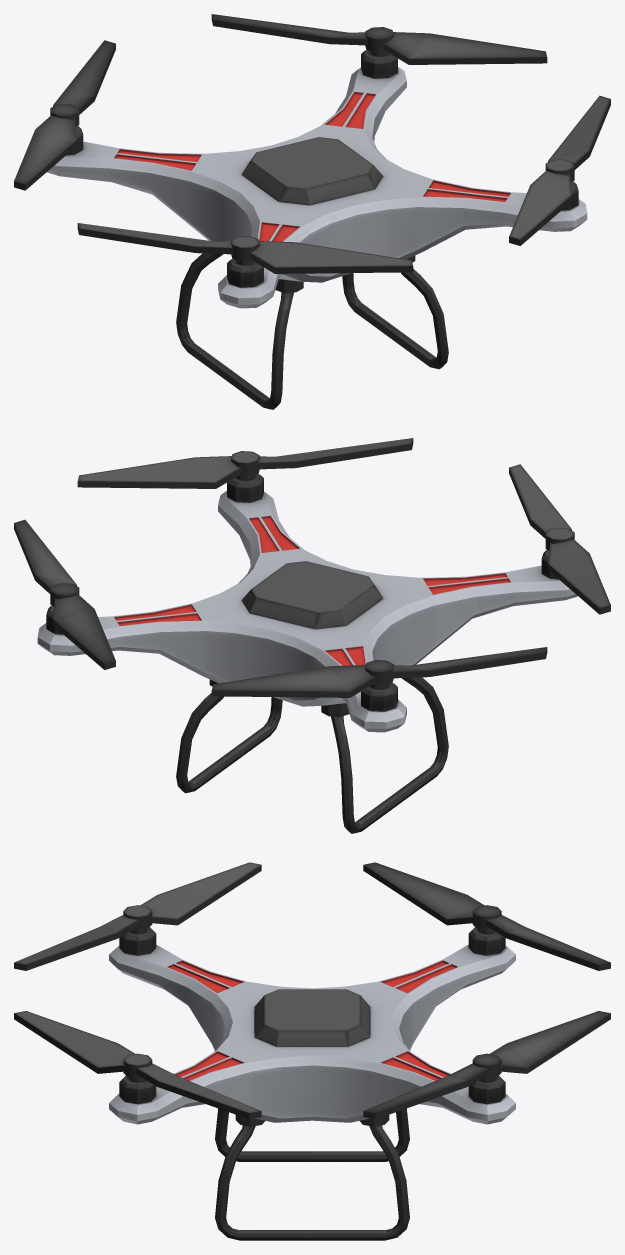
Rendered from drone_low_poly.obj.
The picture shows the model from 3 angles, top to bottom: view 1: azimuth 30°, elevation 25°; view 2: azimuth 150°, elevation 25°; view 3: azimuth 270°, elevation 25°; orthographic projection. The views are drawn at different scales.
Parts seen in each view (by area): view 1: MainBody_LowPolyDrone_0, Wing1_LowPolyDrone_0, Wing3_LowPolyDrone_0, Wing2_LowPolyDrone_0, Wing4_LowPolyDrone_0; view 2: MainBody_LowPolyDrone_0, Wing4_LowPolyDrone_0, Wing2_LowPolyDrone_0, Wing3_LowPolyDrone_0, Wing1_LowPolyDrone_0; view 3: MainBody_LowPolyDrone_0, Wing2_LowPolyDrone_0, Wing3_LowPolyDrone_0, Wing1_LowPolyDrone_0, Wing4_LowPolyDrone_0.
Part boxes in pixels (x1=…): MainBody_LowPolyDrone_0: x1=47, y1=50, x2=587, y2=409; Wing1_LowPolyDrone_0: x1=211, y1=14, x2=547, y2=64; Wing3_LowPolyDrone_0: x1=77, y1=223, x2=413, y2=273; Wing2_LowPolyDrone_0: x1=14, y1=40, x2=115, y2=190; Wing4_LowPolyDrone_0: x1=509, y1=95, x2=610, y2=245; MainBody_LowPolyDrone_0: x1=37, y1=474, x2=577, y2=833; Wing4_LowPolyDrone_0: x1=77, y1=438, x2=413, y2=488; Wing2_LowPolyDrone_0: x1=211, y1=647, x2=547, y2=697; Wing3_LowPolyDrone_0: x1=509, y1=464, x2=610, y2=614; Wing1_LowPolyDrone_0: x1=14, y1=519, x2=115, y2=669; MainBody_LowPolyDrone_0: x1=109, y1=927, x2=515, y2=1240; Wing2_LowPolyDrone_0: x1=363, y1=862, x2=610, y2=970; Wing3_LowPolyDrone_0: x1=14, y1=862, x2=261, y2=970; Wing1_LowPolyDrone_0: x1=363, y1=1011, x2=610, y2=1119; Wing4_LowPolyDrone_0: x1=14, y1=1011, x2=261, y2=1119.
Size of the model in its own units: 162 by 64.94 by 163.
1 material, 1 textured.
